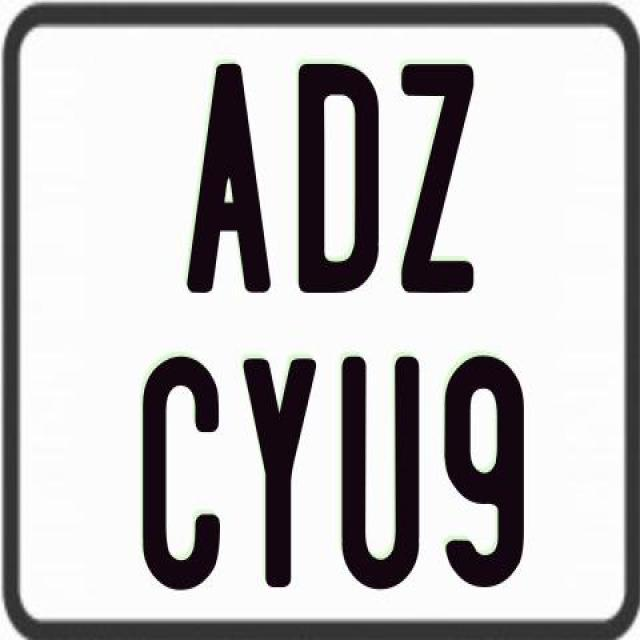9: (442, 354, 530, 596)
A: (186, 62, 278, 293)
C: (142, 356, 228, 588)
D: (297, 61, 384, 290)
U: (339, 357, 422, 589)
Y: (241, 353, 315, 584)
Z: (398, 64, 478, 298)
